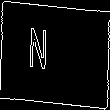N_S: (45, 28, 65, 82)
